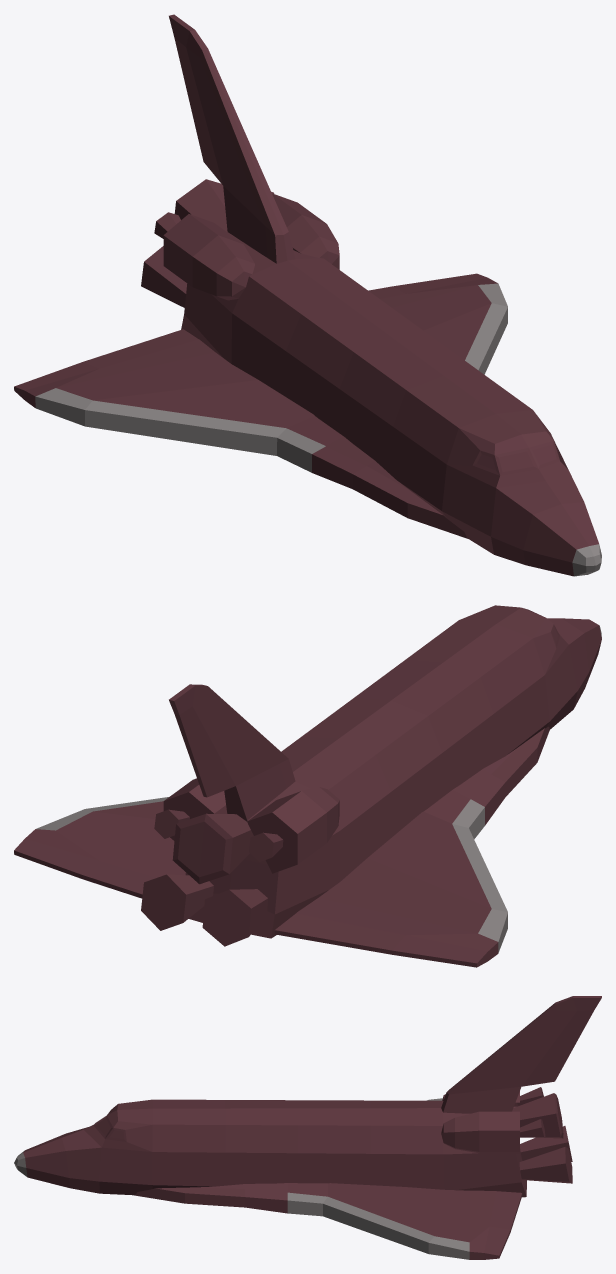
Rendered from space-shuttle.fbx.
3 views of the same model, one above another, from view 1: azimuth 30°, elevation 25°; view 2: azimuth 150°, elevation 25°; view 3: azimuth 270°, elevation 25° (orthographic). The views are drawn at different scales.
Visible parts, largest first — view 1: space-shuttle-base, space-shuttle-door_R, space-shuttle-door_L; view 2: space-shuttle-base, space-shuttle-door_R, space-shuttle-door_L; view 3: space-shuttle-base, space-shuttle-door_L, space-shuttle-door_R.
Boxes of the visible parts, box(x1,y1,x2,y2) form: space-shuttle-base: box(14, 14, 601, 576); space-shuttle-door_R: box(232, 260, 495, 464); space-shuttle-door_L: box(288, 258, 532, 413); space-shuttle-base: box(14, 605, 601, 967); space-shuttle-door_R: box(293, 624, 544, 830); space-shuttle-door_L: box(281, 620, 495, 771); space-shuttle-base: box(14, 996, 601, 1259); space-shuttle-door_L: box(152, 1108, 443, 1154); space-shuttle-door_R: box(152, 1099, 443, 1108).
Bounding box in the file's own units: 22.45 × 12.98 × 35.65.
